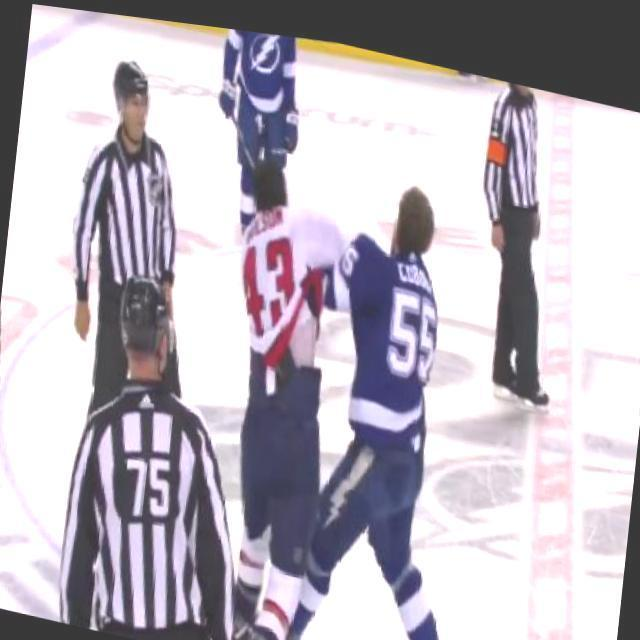fight: (187, 123, 488, 640)
